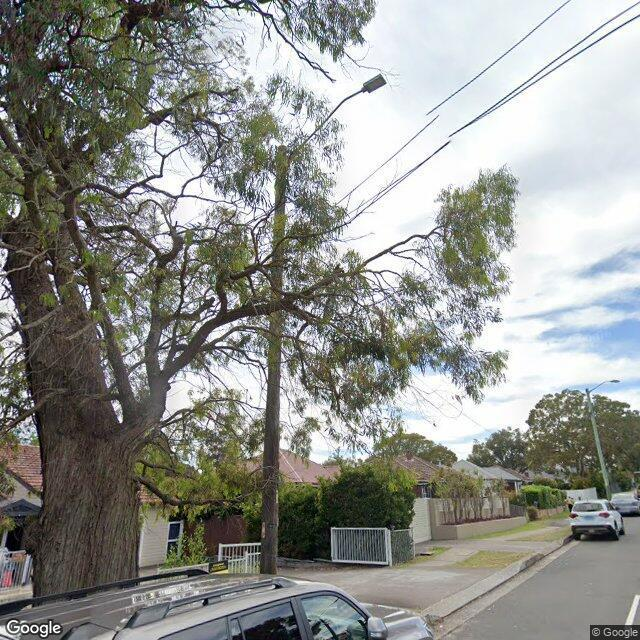streetlight: (288, 73, 387, 160), (589, 379, 620, 394)
timber-pole: (260, 144, 290, 575), (586, 388, 612, 500)
